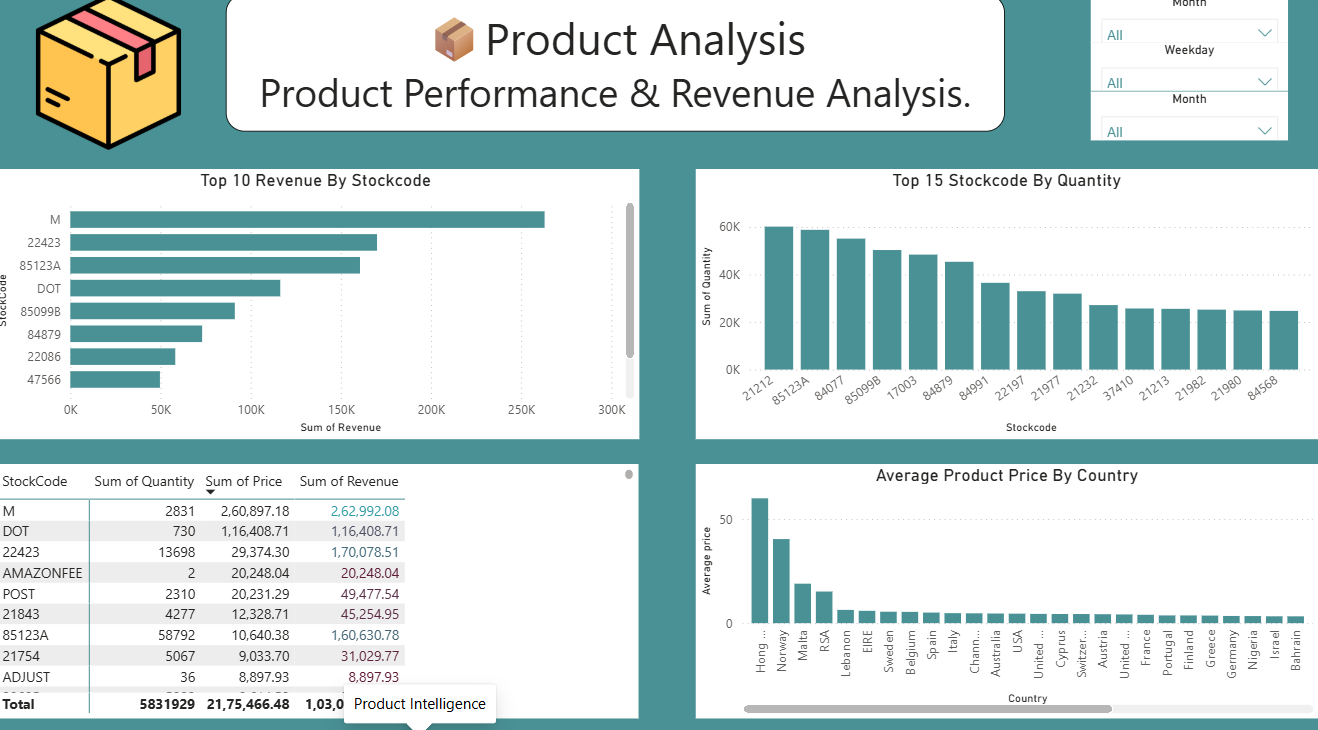

The page's visual inventory and layout, read from the dashboard file:
{"tool":"powerbi","page":{"name":"Product Intelligence","canvas":[1280,720],"ordinal":1},"visuals":[{"type":"textbox","box":[225,0,752,133.1],"z":0},{"type":"slicer","title":"Month","fields":{"Values":["retail_db clean retail data csv.Month_Name"]},"box":[1060.5,0,190.6,47.4],"z":0,"group":"g1"},{"type":"slicer","title":"Weekday","fields":{"Values":["retail_db clean retail data csv.Weekday"]},"box":[1060.5,47.4,190.6,46.4],"z":1000,"group":"g1"},{"type":"clusteredBarChart","title":"Top 10 Revenue By Stockcode","fields":{"Y":["Sum(retail_db clean retail data csv.Revenue)"],"Category":["retail_db clean retail data csv.StockCode"]},"box":[0,168.9,624.9,260.6],"z":1000},{"type":"slicer","title":"Month","fields":{"Values":["retail_db clean retail data csv.Month_Name"]},"box":[1060.5,93.8,190.6,47.4],"z":2000,"group":"g1"},{"type":"columnChart","title":"Top 15 Stockcode By Quantity","fields":{"Category":["retail_db clean retail data csv.StockCode"],"Y":["Sum(retail_db clean retail data csv.Quantity)"]},"box":[679.2,168.9,600.8,260.6],"z":2000},{"type":"pivotTable","fields":{"Rows":["retail_db clean retail data csv.StockCode"],"Values":["Sum(retail_db clean retail data csv.Quantity)","Sum(retail_db clean retail data csv.Price)","Sum(retail_db clean retail data csv.Revenue)"]},"box":[0,454.2,624.4,245.6],"z":3000},{"type":"columnChart","title":"Average Product Price By Country","fields":{"Category":["retail_db clean retail data csv.Country"],"Y":["retail_db clean retail data csv.Average price"]},"box":[679.2,454.2,601,245.6],"z":4000},{"type":"image","box":[0,0,225,150],"z":5000},{"type":"group","id":"g1","title":"Group 1","box":[1060.5,0,190.6,141.2],"z":7000}]}

Visuals, with their boxes in screenshot pixels (x1, y1, x2, y2), scaled from the page's 1280x720 canvas onto the 1318x730 screenshot:
textbox: rect(232, 0, 1006, 135)
"Month" slicer: rect(1092, 0, 1288, 48)
"Weekday" slicer: rect(1092, 48, 1288, 95)
"Top 10 Revenue By Stockcode" clusteredBarChart: rect(0, 171, 643, 435)
"Month" slicer: rect(1092, 95, 1288, 143)
"Top 15 Stockcode By Quantity" columnChart: rect(699, 171, 1317, 435)
pivotTable - retail_db clean retail data csv.StockCode x Sum(retail_db clean retail data csv.Quantity): rect(0, 461, 643, 710)
"Average Product Price By Country" columnChart: rect(699, 461, 1317, 710)
image: rect(0, 0, 232, 152)
"Group 1" group: rect(1092, 0, 1288, 143)
